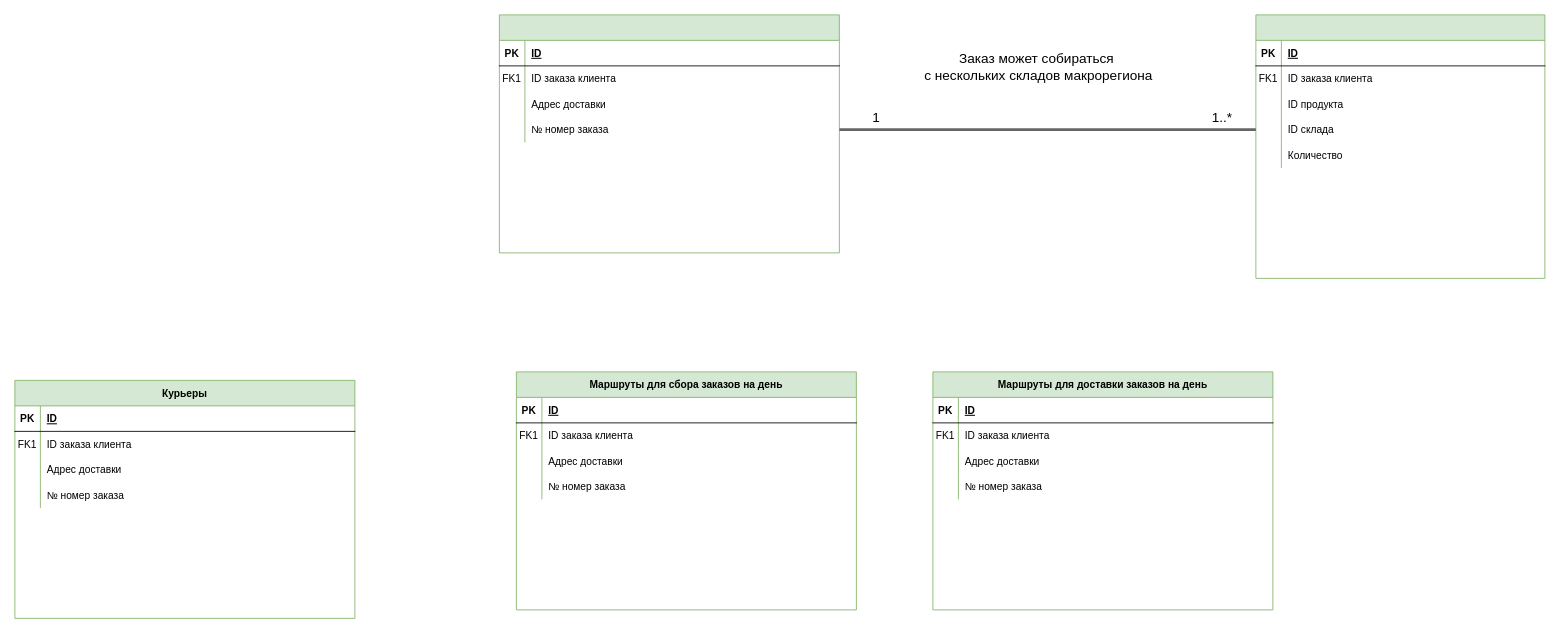
The diagram is 1560 pixels wide and 633 high, and some of its shapes have lost their labels. The shapes that lost their labels are listed below. From the top down, each one's box as (x1, y1, x2, y2) in pixels, then its label:
(499, 14, 839, 253): Заказ на доставку
(1255, 14, 1545, 278): Продукты заказа на складах
